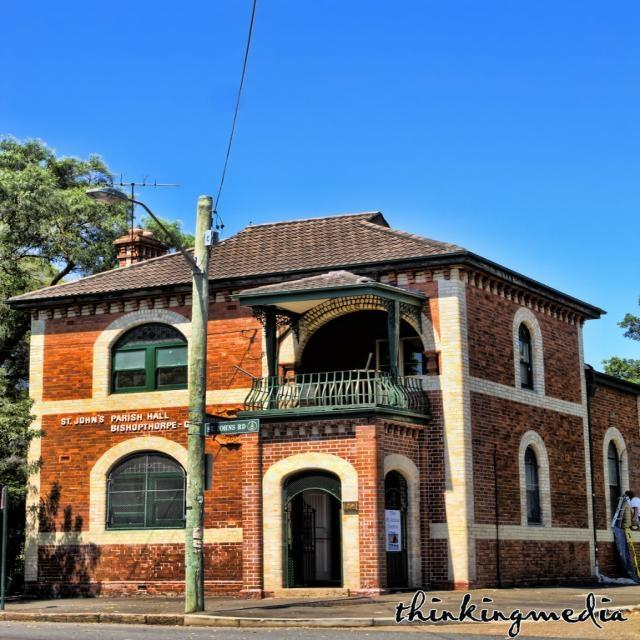door: (274, 465, 350, 593), (376, 460, 418, 591)
